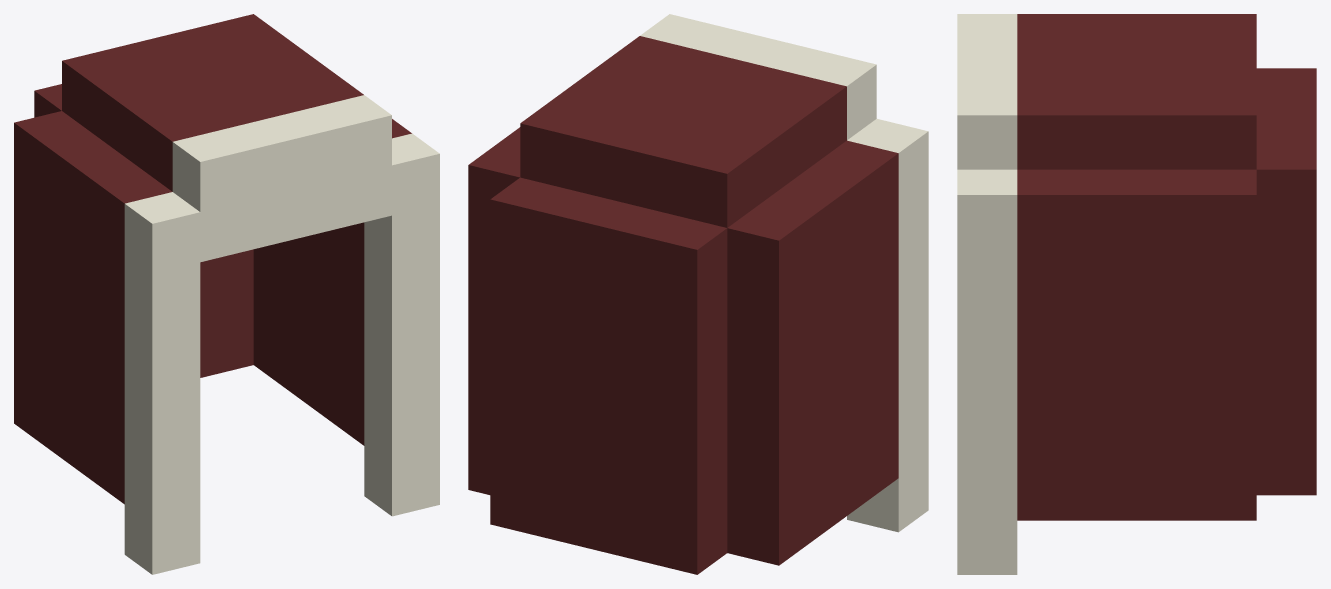
The model's file is char-115-helm_lgt_2a_du_color.obj.
The picture shows the model from 3 angles, left to right: view 1: azimuth 30°, elevation 25°; view 2: azimuth 150°, elevation 25°; view 3: azimuth 270°, elevation 25°; orthographic projection. The views are drawn at different scales.
Parts seen in each view (by area): view 1: helm_lgt_2a_du_color; view 2: helm_lgt_2a_du_color; view 3: helm_lgt_2a_du_color.
Part boxes in pixels (x1,y1,x2,y2): helm_lgt_2a_du_color: [14, 14, 439, 574]; helm_lgt_2a_du_color: [468, 14, 928, 574]; helm_lgt_2a_du_color: [957, 14, 1316, 574].
Bounding box in the file's own units: 0.6 × 0.8 × 0.6.
Materials: 1 (1 with a texture image).
